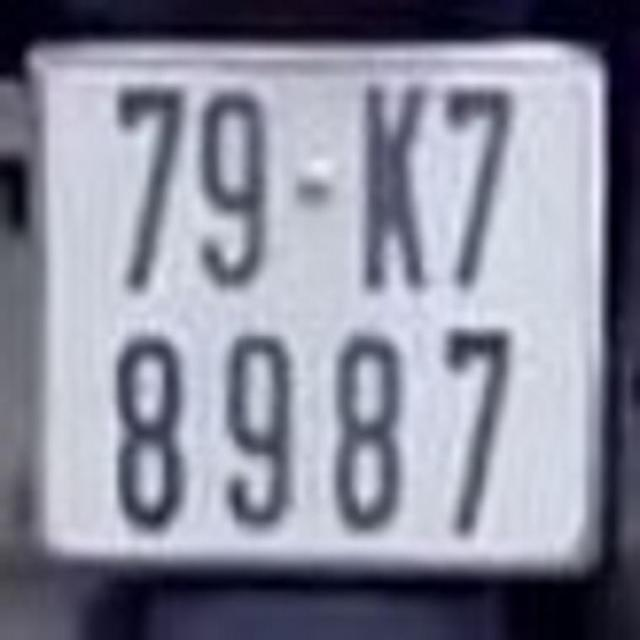7: (434, 310, 516, 535), (110, 69, 190, 298), (446, 67, 516, 296)
8: (107, 324, 191, 526), (329, 320, 407, 537)
9: (197, 66, 270, 301), (219, 324, 296, 538)
K: (352, 65, 436, 298)
